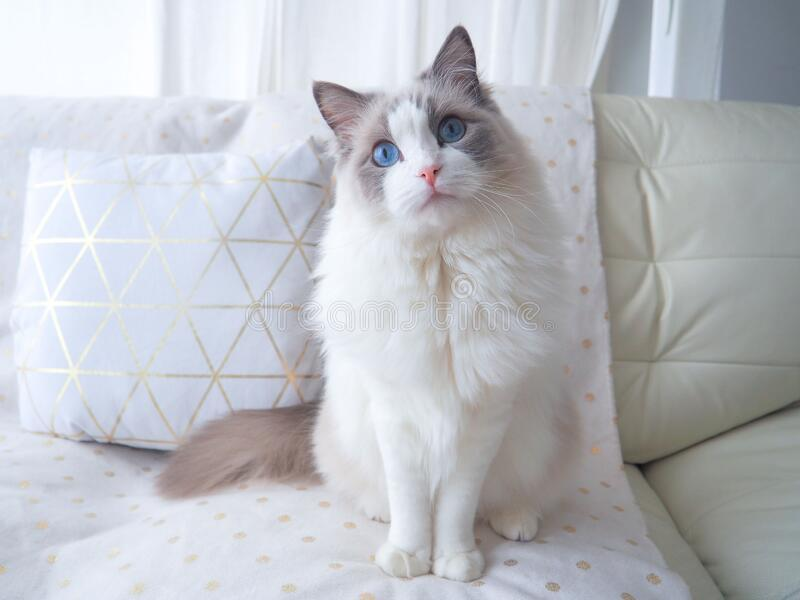ragdoll: (303, 16, 548, 252)
